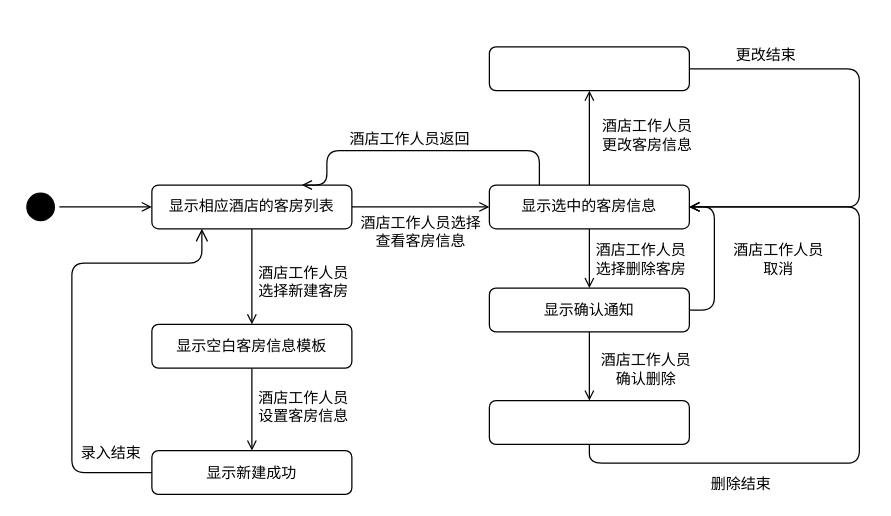
Image size: 891x516. Some labels were removed from this diagram. The shapes that lost their labels are listed below. From the top down, each one's centre as x and y in pixels, then its label:
point (588, 68): 显示更改成功
point (588, 421): 显示删除成功
